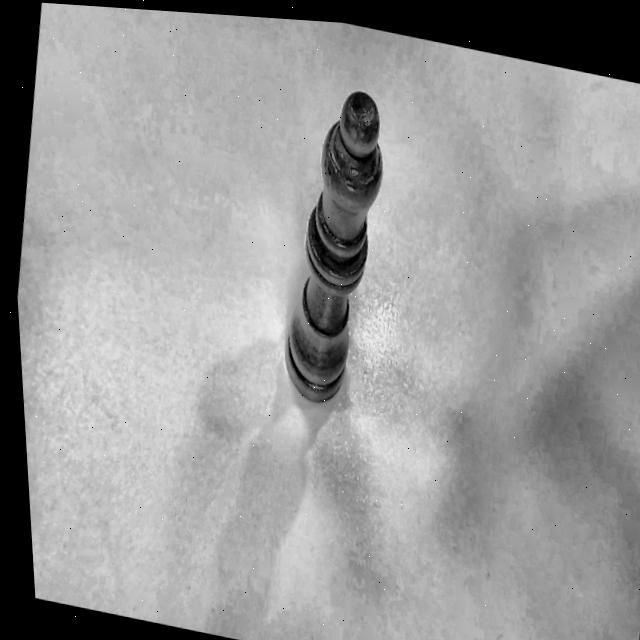black-queen: (245, 56, 422, 435)
